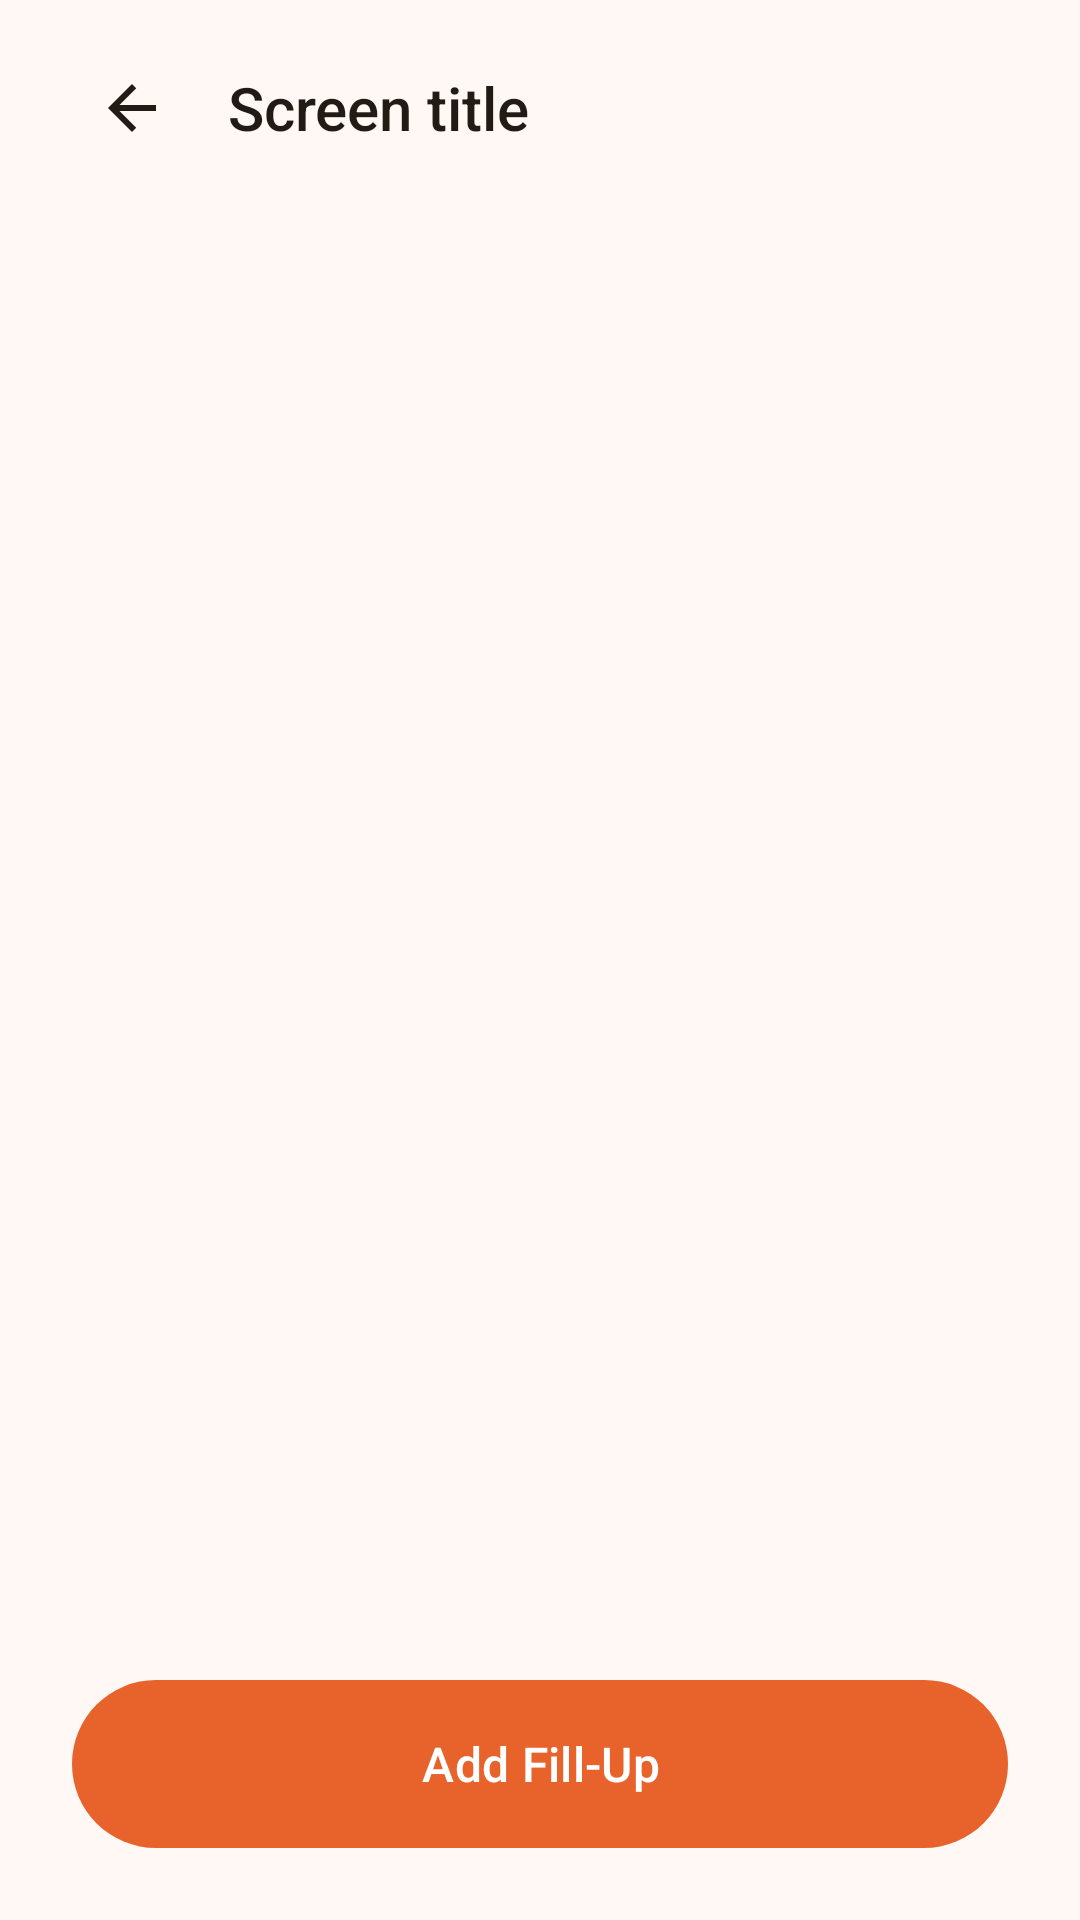

Point at icon controls on the screen. Image size 1080x1920, points as point (x, y).
Back: point (132, 108)
